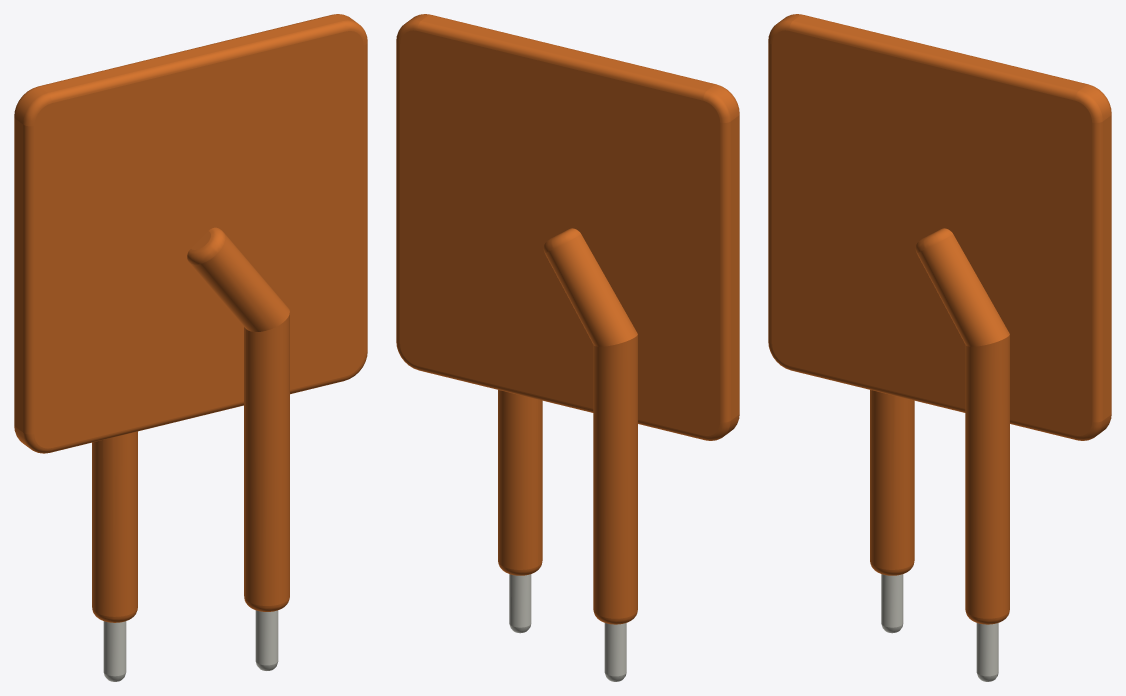
Rendered from kc-fuse_belfuse_0zre_0zre0055ff_l14.0mm_w4.1mm.glb.
3 renders of one model, left to right at view 1: azimuth 30°, elevation 25°; view 2: azimuth 150°, elevation 25°; view 3: azimuth 330°, elevation 25°, orthographic. The views are drawn at different scales.
Visible parts, largest first — view 1: 0.5833333333333334_0.16666666666666666_0_0, 0.6666666666666666_0.6666666666666666_0.5833333333333334_0.8; view 2: 0.5833333333333334_0.16666666666666666_0_0, 0.6666666666666666_0.6666666666666666_0.5833333333333334_0.8; view 3: 0.5833333333333334_0.16666666666666666_0_0, 0.6666666666666666_0.6666666666666666_0.5833333333333334_0.8.
Boxes of the visible parts, x1,y1,x2,y2 form: 0.5833333333333334_0.16666666666666666_0_0: (14,14,367,622); 0.6666666666666666_0.6666666666666666_0.5833333333333334_0.8: (103,610,278,681); 0.5833333333333334_0.16666666666666666_0_0: (396,14,739,624); 0.6666666666666666_0.6666666666666666_0.5833333333333334_0.8: (509,574,626,681); 0.5833333333333334_0.16666666666666666_0_0: (768,14,1111,624); 0.6666666666666666_0.6666666666666666_0.5833333333333334_0.8: (881,574,998,681).
Size of the model in its own units: 1.4 by 2.42 by 0.3515.
